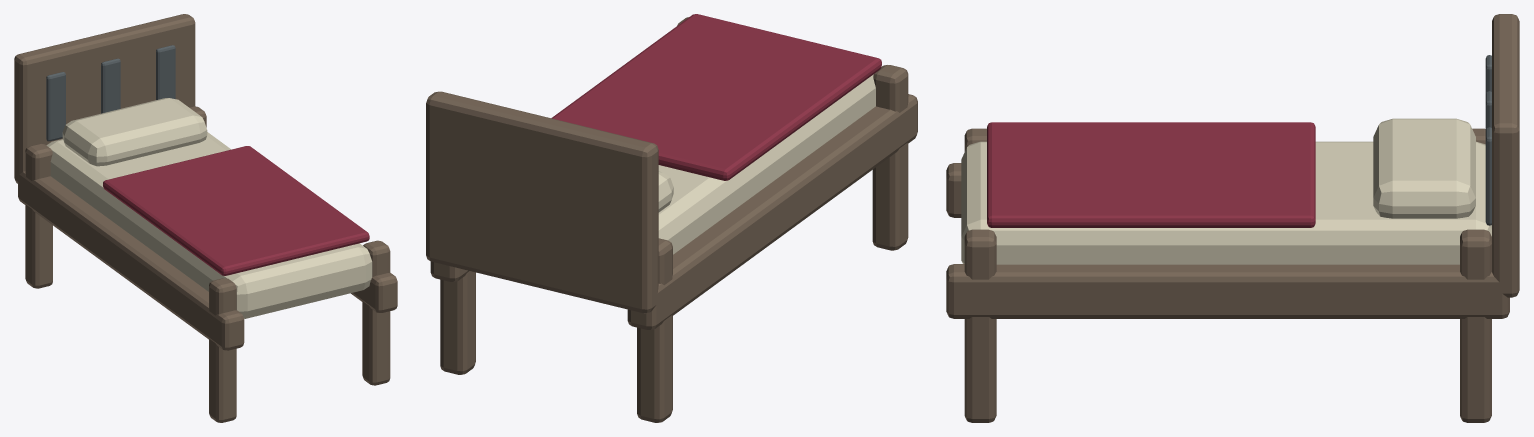
Rendered from ward_cot.glb.
3 views of the same model, side by side, from view 1: azimuth 30°, elevation 25°; view 2: azimuth 150°, elevation 25°; view 3: azimuth 270°, elevation 25° (orthographic). The views are drawn at different scales.
Parts seen in each view (by area): view 1: Body.070; view 2: Body.070; view 3: Body.070.
Part boxes in pixels (bbox=[...]): Body.070: bbox=[14, 14, 397, 422]; Body.070: bbox=[426, 14, 917, 422]; Body.070: bbox=[946, 14, 1519, 422].
Size of the model in its own units: 0.64 by 0.775 by 1.34.
